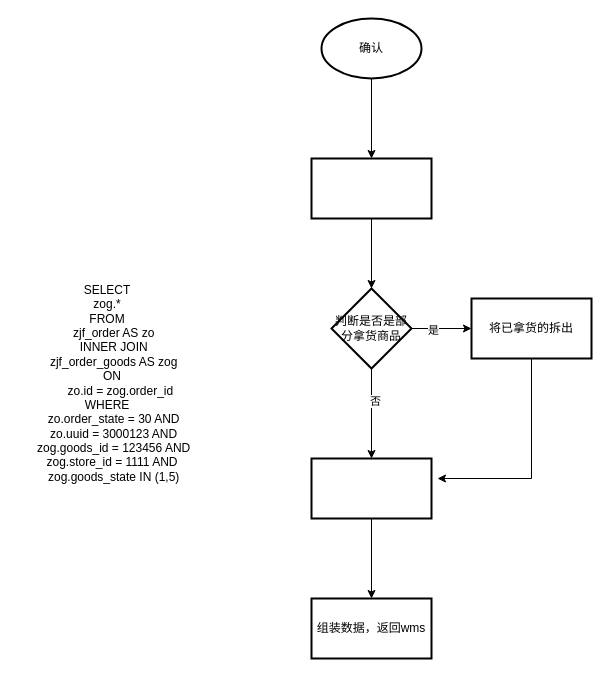
The diagram is 609 pixels wide and 676 high, and some of its shapes have lost their labels. Each missing label, with the box of its shape:
删除老商品信息 添加新商品信息: (310, 457, 432, 519)
根据uuid和sku查询订单商品信息: (310, 157, 432, 219)
